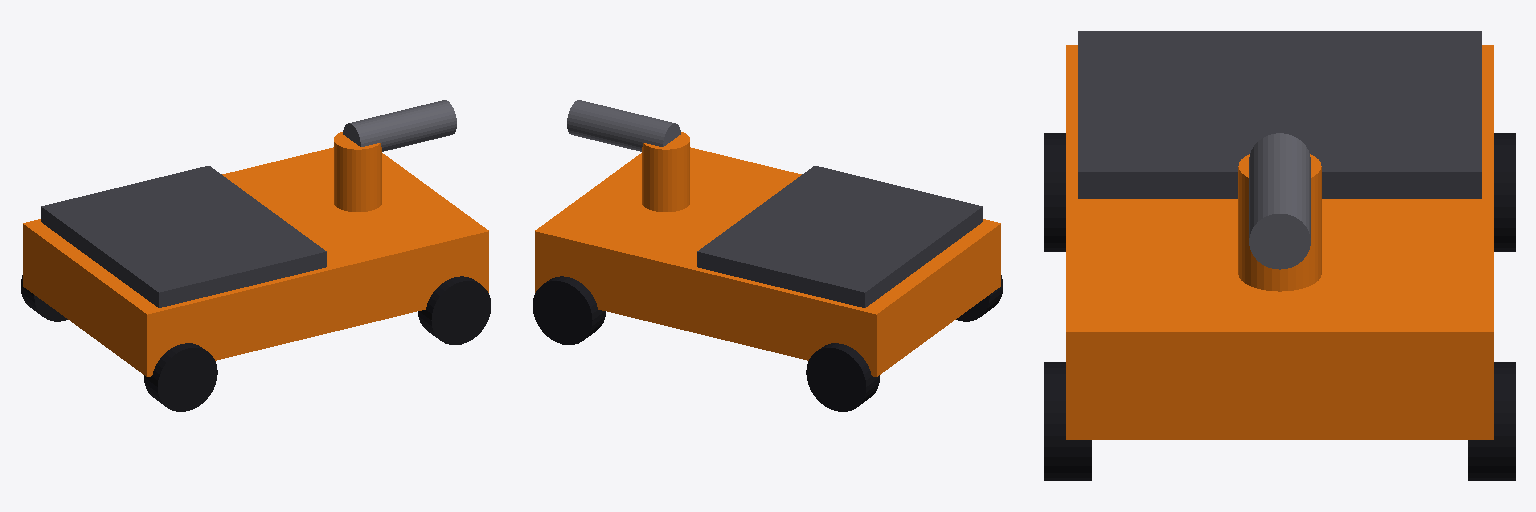
The robot description file, URDF, robot "youbot":
<?xml version="1.0"?>
<!--
  Visual-only URDF for RViz: a recognizable YouBot body (base + 4 mecanum
  wheels + a folded 5-DOF arm) made of primitive shapes. All joints are FIXED,
  so robot_state_publisher emits the full TF tree without needing joint states.
  The robot follows the map->base_link transform published by sim_node (or the
  Webots driver). Replace these primitives with your CAD meshes (sw2urdf) later.
  Frame convention: +X forward (toward the arm), +Y left, +Z up.
-->
<robot name="youbot">
  <material name="kuka_orange"><color rgba="0.95 0.50 0.10 1"/></material>
  <material name="dark"><color rgba="0.14 0.14 0.16 1"/></material>
  <material name="grey"><color rgba="0.42 0.42 0.45 1"/></material>
  <material name="plate"><color rgba="0.30 0.30 0.33 1"/></material>

  <!-- Base chassis + flat rear carrying plate -->
  <link name="base_link">
    <visual>
      <origin xyz="0 0 0.11"/>
      <geometry><box size="0.57 0.36 0.10"/></geometry>
      <material name="kuka_orange"/>
    </visual>
    <visual>
      <origin xyz="-0.12 0 0.17"/>
      <geometry><box size="0.28 0.34 0.03"/></geometry>
      <material name="plate"/>
    </visual>
  </link>

  <!-- Four mecanum wheels (cylinders laid along Y) -->
  <link name="wheel_fl">
    <visual><origin rpy="1.5708 0 0"/><geometry><cylinder radius="0.05" length="0.04"/></geometry><material name="dark"/></visual>
  </link>
  <joint name="j_fl" type="fixed"><parent link="base_link"/><child link="wheel_fl"/><origin xyz="0.228 0.178 0.05"/></joint>

  <link name="wheel_fr">
    <visual><origin rpy="1.5708 0 0"/><geometry><cylinder radius="0.05" length="0.04"/></geometry><material name="dark"/></visual>
  </link>
  <joint name="j_fr" type="fixed"><parent link="base_link"/><child link="wheel_fr"/><origin xyz="0.228 -0.178 0.05"/></joint>

  <link name="wheel_rl">
    <visual><origin rpy="1.5708 0 0"/><geometry><cylinder radius="0.05" length="0.04"/></geometry><material name="dark"/></visual>
  </link>
  <joint name="j_rl" type="fixed"><parent link="base_link"/><child link="wheel_rl"/><origin xyz="-0.228 0.178 0.05"/></joint>

  <link name="wheel_rr">
    <visual><origin rpy="1.5708 0 0"/><geometry><cylinder radius="0.05" length="0.04"/></geometry><material name="dark"/></visual>
  </link>
  <joint name="j_rr" type="fixed"><parent link="base_link"/><child link="wheel_rr"/><origin xyz="-0.228 -0.178 0.05"/></joint>

  <!-- Simplified folded arm at the front -->
  <link name="arm_base">
    <visual><origin xyz="0 0 0.05"/><geometry><cylinder radius="0.035" length="0.10"/></geometry><material name="kuka_orange"/></visual>
  </link>
  <joint name="j_arm" type="fixed"><parent link="base_link"/><child link="arm_base"/><origin xyz="0.17 0 0.16"/></joint>

  <link name="arm_seg">
    <visual><origin xyz="0.07 0 0" rpy="0 1.5708 0"/><geometry><cylinder radius="0.026" length="0.16"/></geometry><material name="grey"/></visual>
  </link>
  <joint name="j_arm2" type="fixed"><parent link="arm_base"/><child link="arm_seg"/><origin xyz="0 0 0.10"/></joint>
</robot>

--- Render facts (derived) ---
3 views of the same robot in one strip: view 1: azimuth 30°, elevation 25°; view 2: azimuth 150°, elevation 25°; view 3: azimuth 270°, elevation 25° (orthographic).
Robot: youbot — 7 links, 6 joints (6 fixed); root link base_link; default pose: every joint at zero.
Visible links, largest first — view 1: base_link, wheel_rr, wheel_fr, arm_seg, arm_base, wheel_rl; view 2: base_link, wheel_rl, wheel_fl, arm_seg, arm_base, wheel_rr; view 3: base_link, arm_seg, arm_base, wheel_fl, wheel_fr, wheel_rl, wheel_rr.
Link boxes in pixels (x1=…): base_link: x1=23, y1=147, x2=488, y2=376; wheel_rr: x1=144, y1=343, x2=217, y2=411; wheel_fr: x1=418, y1=276, x2=490, y2=344; arm_seg: x1=343, y1=100, x2=456, y2=151; arm_base: x1=334, y1=132, x2=381, y2=211; wheel_rl: x1=21, y1=275, x2=67, y2=321; base_link: x1=535, y1=147, x2=1000, y2=376; wheel_rl: x1=806, y1=343, x2=879, y2=411; wheel_fl: x1=533, y1=276, x2=605, y2=344; arm_seg: x1=567, y1=100, x2=680, y2=151; arm_base: x1=642, y1=132, x2=689, y2=211; wheel_rr: x1=956, y1=275, x2=1002, y2=321; base_link: x1=1066, y1=31, x2=1493, y2=439; arm_seg: x1=1249, y1=133, x2=1310, y2=269; arm_base: x1=1238, y1=154, x2=1321, y2=291; wheel_fl: x1=1468, y1=362, x2=1515, y2=480; wheel_fr: x1=1044, y1=362, x2=1091, y2=480; wheel_rl: x1=1494, y1=133, x2=1515, y2=251; wheel_rr: x1=1044, y1=133, x2=1065, y2=251.
Bounding box of the posed robot: 0.605 × 0.396 × 0.286 m (x, y, z).
Geometry: primitives only (box / cylinder / sphere), no mesh files.
